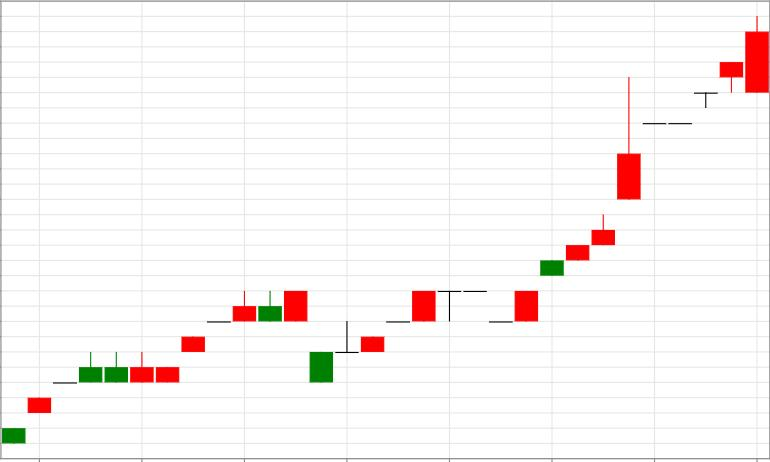shooting_star_fall: (516, 78, 640, 321)
